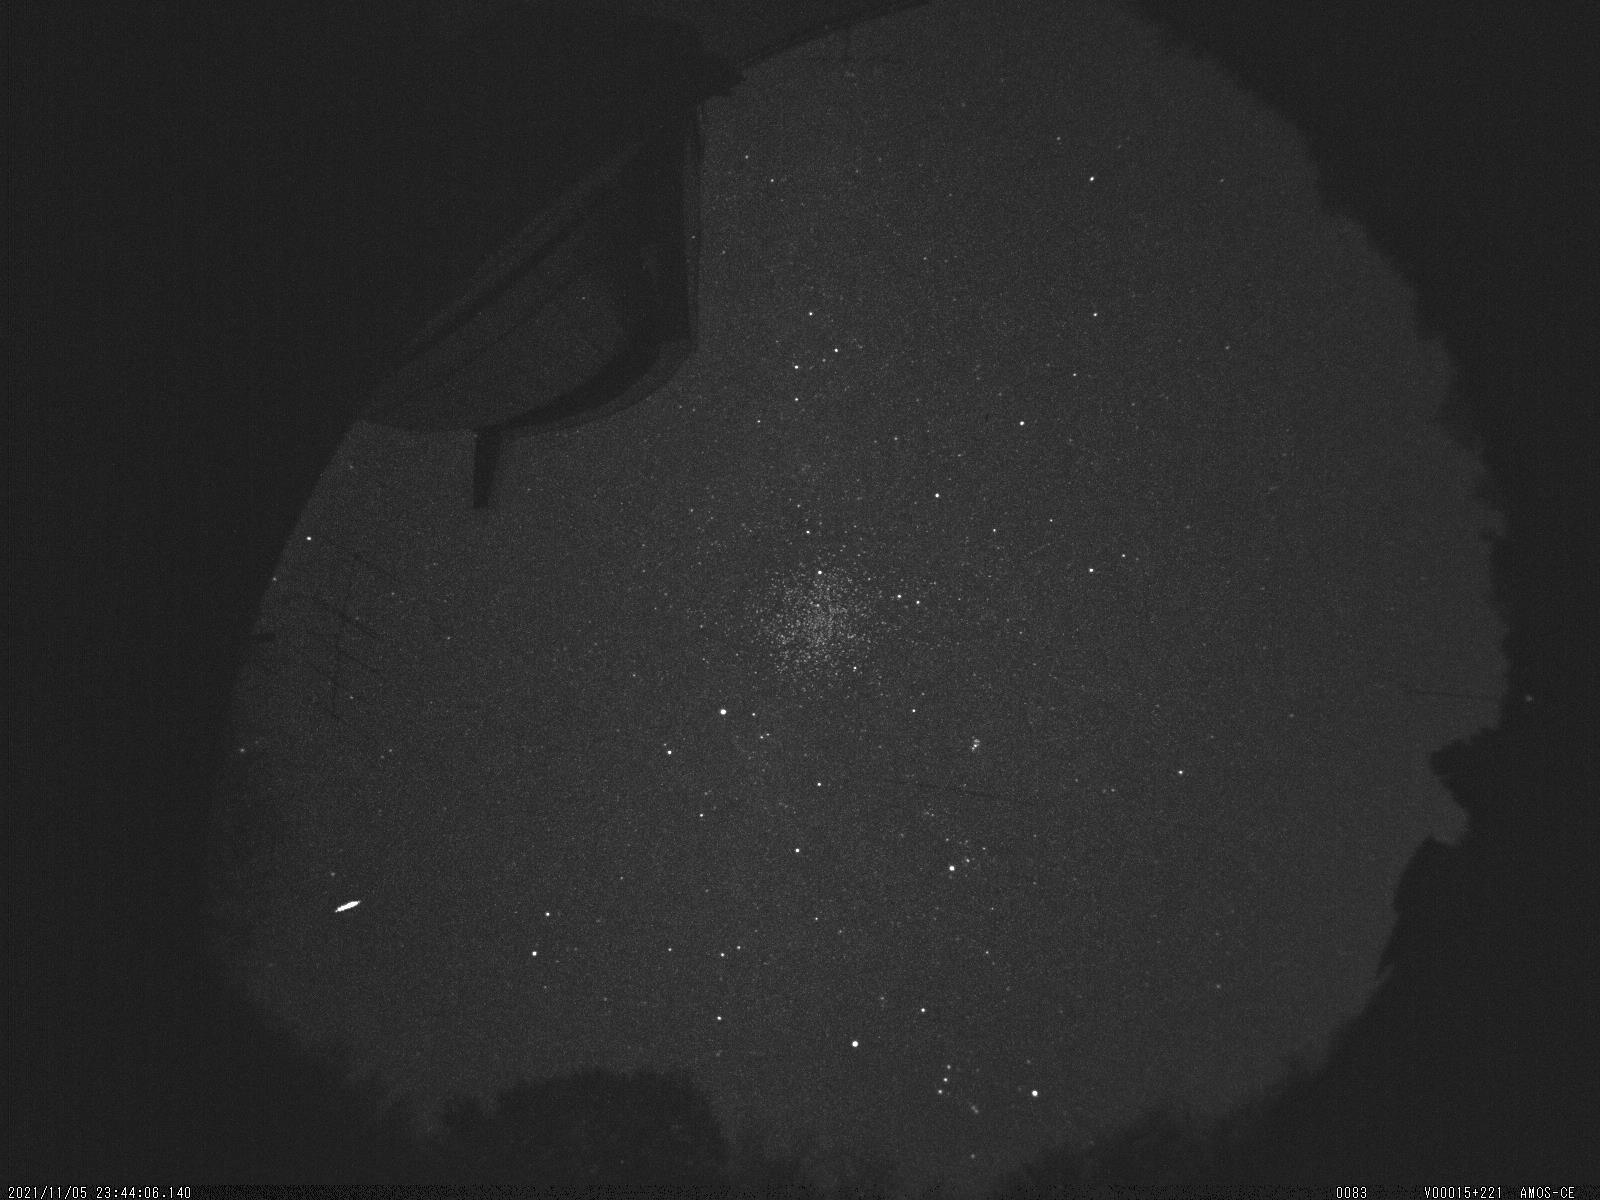Meteor: (324, 886, 372, 921)
